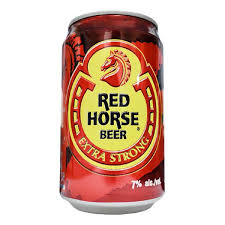can: (60, 9, 167, 216)
